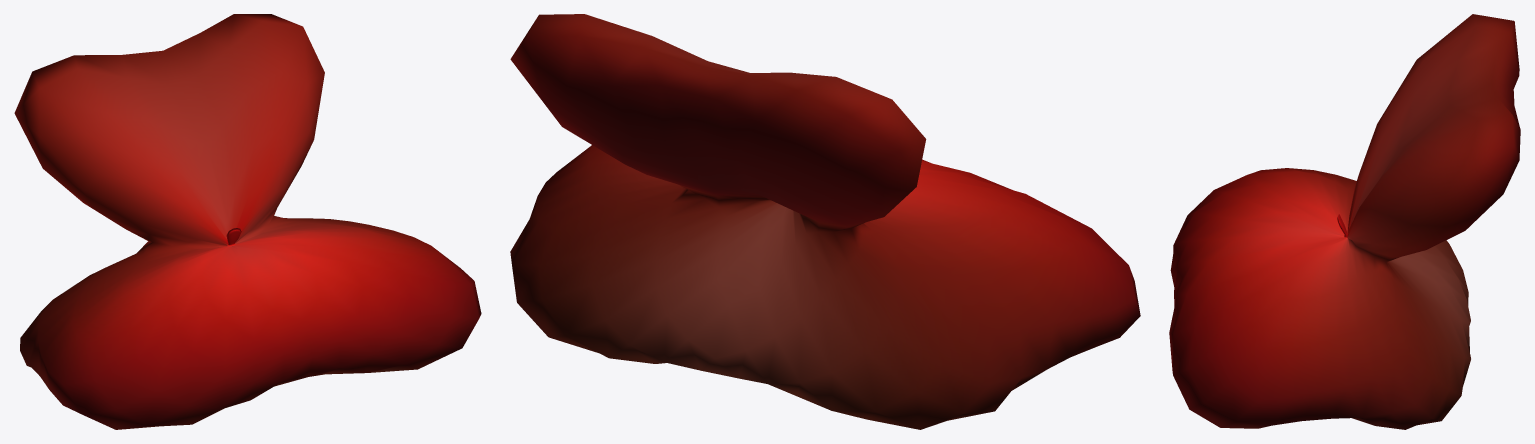
File: SheenChair_064B_sh.glb
3 renders of one model, left to right at view 1: azimuth 30°, elevation 25°; view 2: azimuth 150°, elevation 25°; view 3: azimuth 270°, elevation 25°, orthographic. The views are drawn at different scales.
Bounding box in the file's own units: 1.78 × 1.21 × 1.24.
